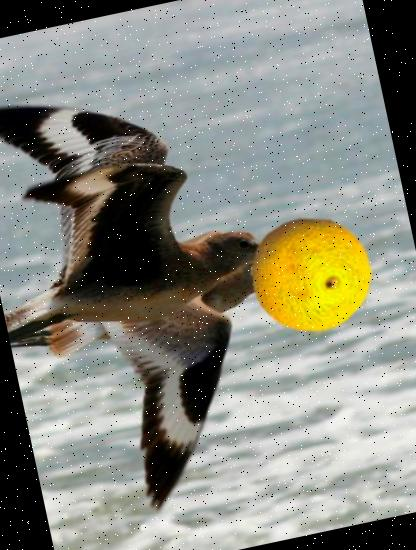Cantaloupe: (238, 202, 384, 347)
